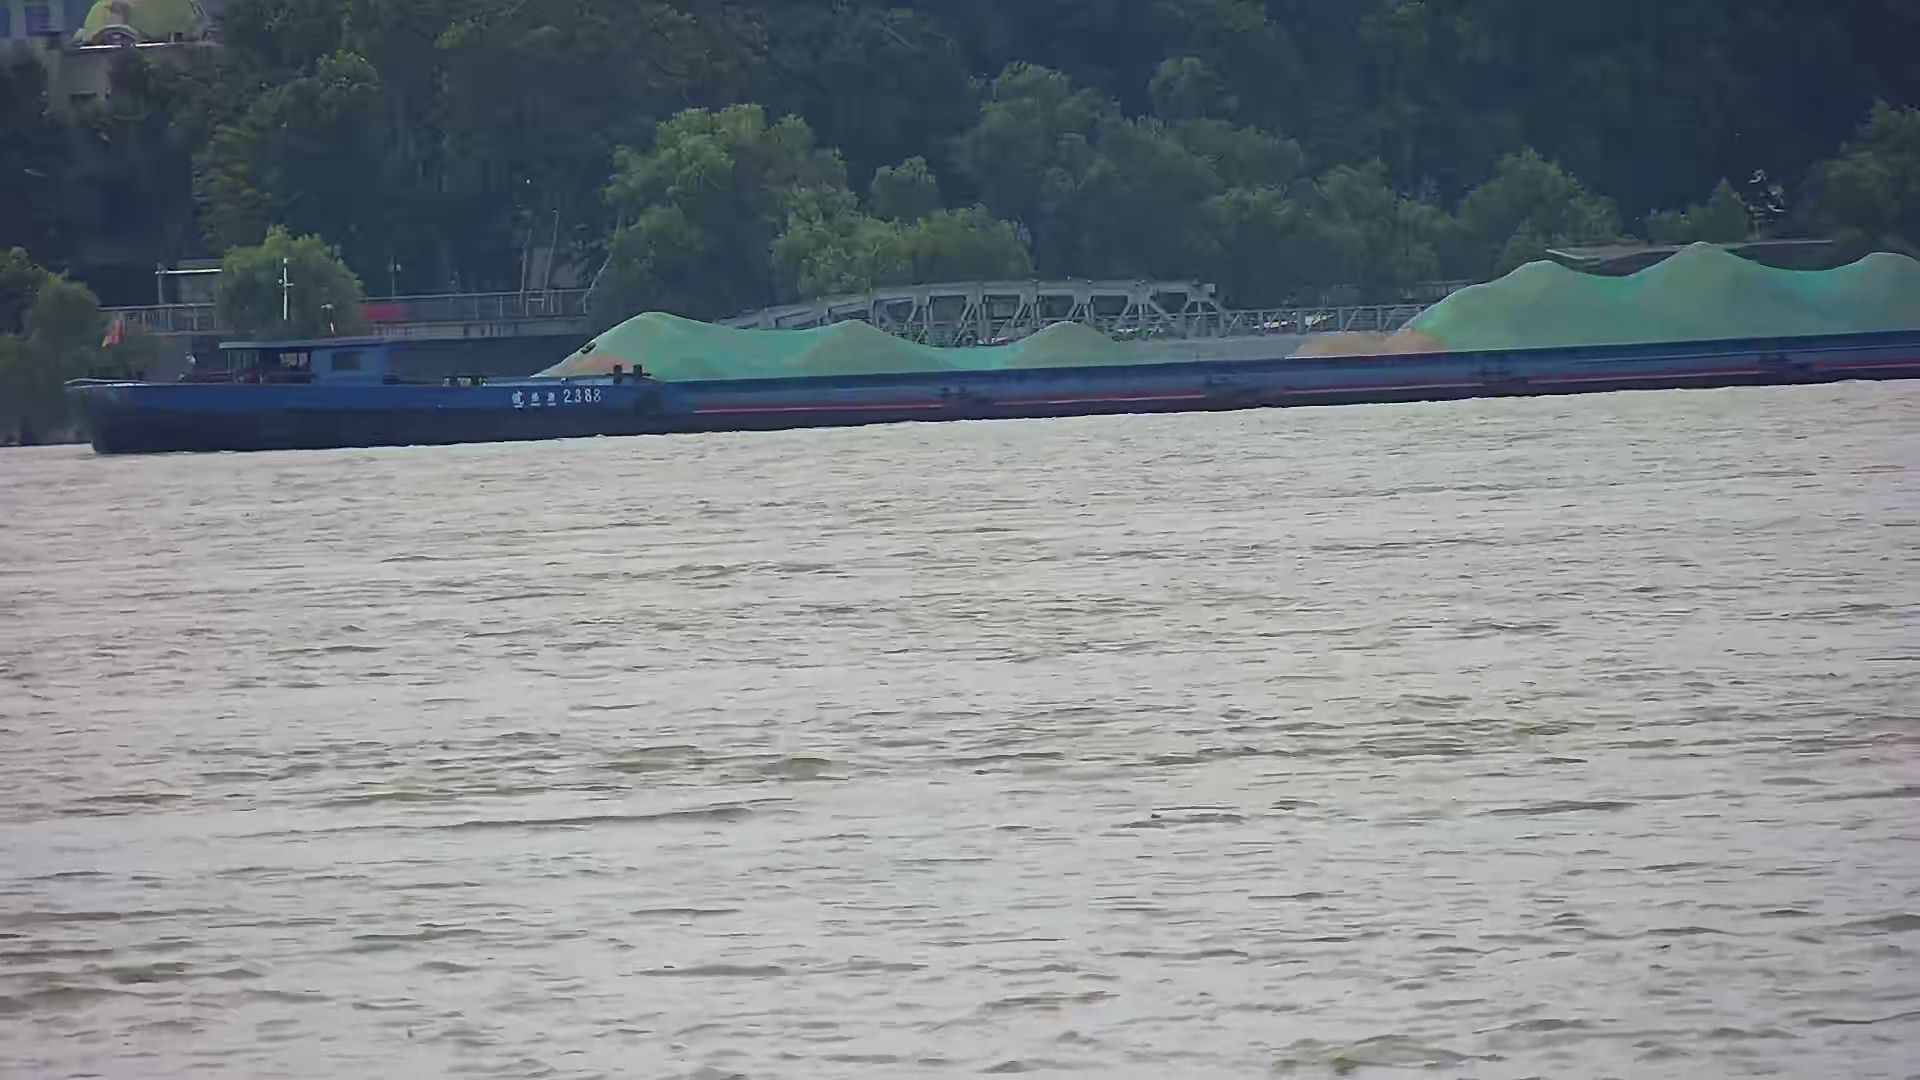ship: (71, 243, 1920, 455)
